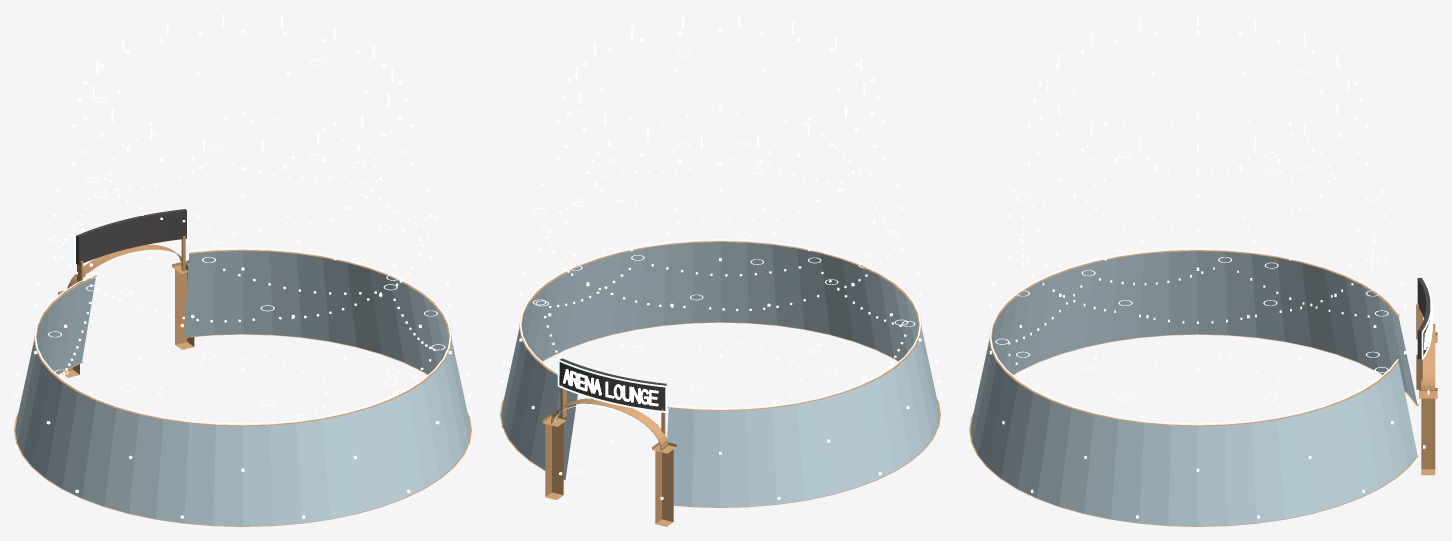
File: decor.glb
3 renders of one model, left to right at view 1: azimuth 30°, elevation 25°; view 2: azimuth 150°, elevation 25°; view 3: azimuth 270°, elevation 25°, orthographic. The views are drawn at different scales.
Visible parts, largest first — view 1: facade, lights, marquee, facade_rail, portal, facade_glow; view 2: facade, lights, portal, facade_rail, marquee, facade_glow, neon, marquee_frame; view 3: facade, lights, facade_rail, portal, facade_glow, marquee.
Part boxes in pixels (x1,y1,x2,y2): facade: [15, 251, 470, 526]; lights: [14, 14, 471, 518]; marquee: [76, 209, 186, 264]; facade_rail: [14, 249, 471, 526]; portal: [58, 236, 194, 377]; facade_glow: [34, 248, 451, 424]; facade: [501, 242, 939, 507]; lights: [500, 14, 940, 499]; portal: [542, 384, 676, 526]; facade_rail: [500, 241, 940, 507]; marquee: [559, 358, 666, 410]; facade_glow: [519, 239, 921, 408]; neon: [562, 369, 658, 406]; marquee_frame: [557, 359, 666, 412]; facade: [970, 251, 1417, 526]; lights: [970, 14, 1425, 518]; facade_rail: [969, 250, 1418, 526]; portal: [1416, 304, 1437, 475]; facade_glow: [989, 248, 1398, 424]; marquee: [1417, 277, 1430, 359].
Size of what is drawn, in the model's own units: 29.47 by 26.05 by 30.18.
